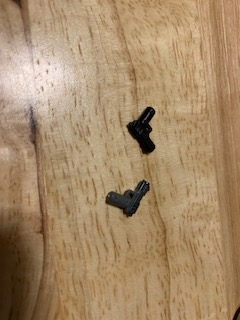pistol: (103, 178, 156, 218), (125, 104, 159, 159)
